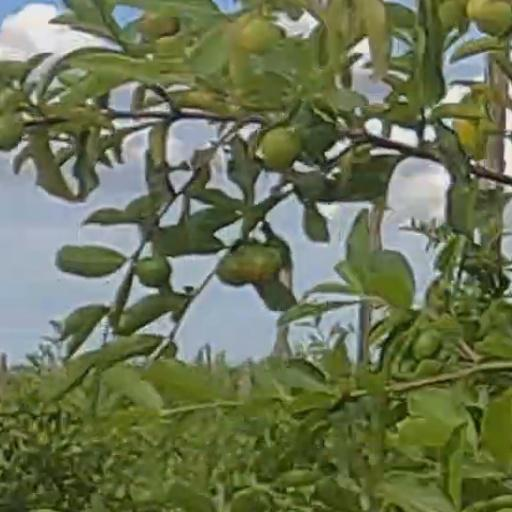acerola_verde: (237, 244, 280, 282), (263, 130, 298, 169), (473, 1, 507, 33)
